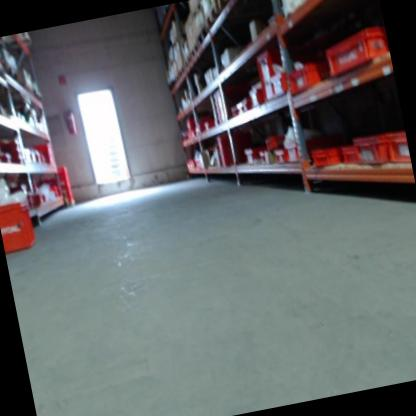pallet: (202, 0, 222, 30), (195, 25, 210, 46), (217, 0, 237, 14), (189, 41, 200, 59)
small_load_carrier: (318, 20, 391, 76), (0, 197, 39, 256), (250, 48, 287, 102), (347, 124, 390, 169), (302, 137, 352, 175), (281, 60, 329, 97), (214, 128, 244, 170), (383, 127, 410, 169), (269, 67, 293, 97), (258, 131, 288, 155), (337, 138, 361, 166), (241, 141, 266, 167), (283, 141, 309, 165), (247, 83, 264, 107)
